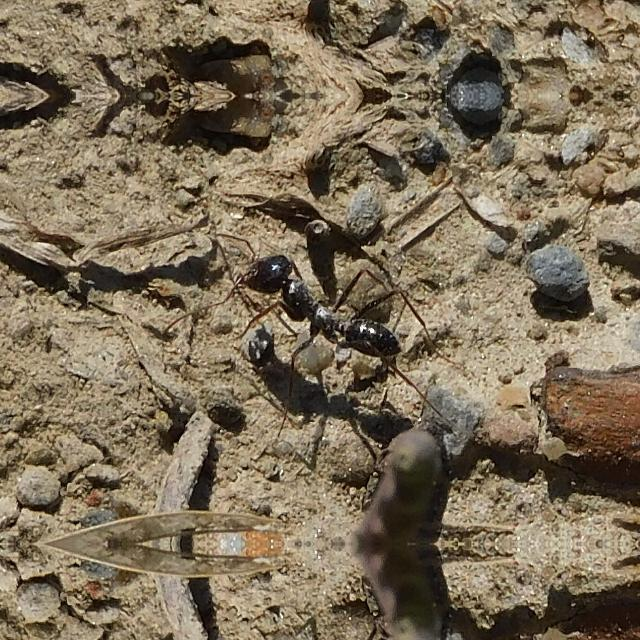Cataglyphis: (222, 235, 428, 372)
